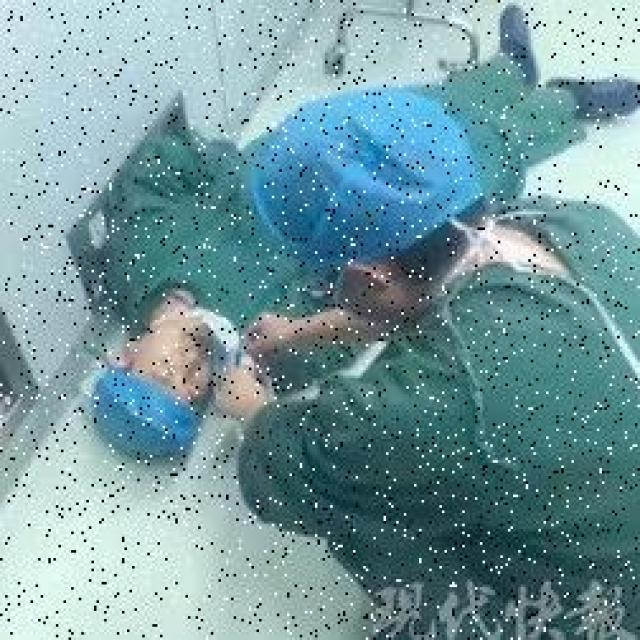fall: (66, 32, 554, 455)
